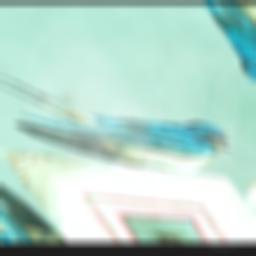Swallow: (0, 28, 244, 216)
